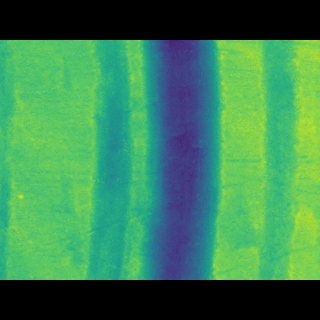Loch: (80, 70, 320, 250)
